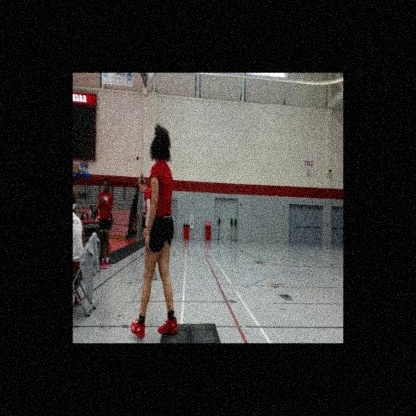lateral_flexion_right: (129, 123, 179, 343)
stance_width_broad: (130, 160, 179, 343)
